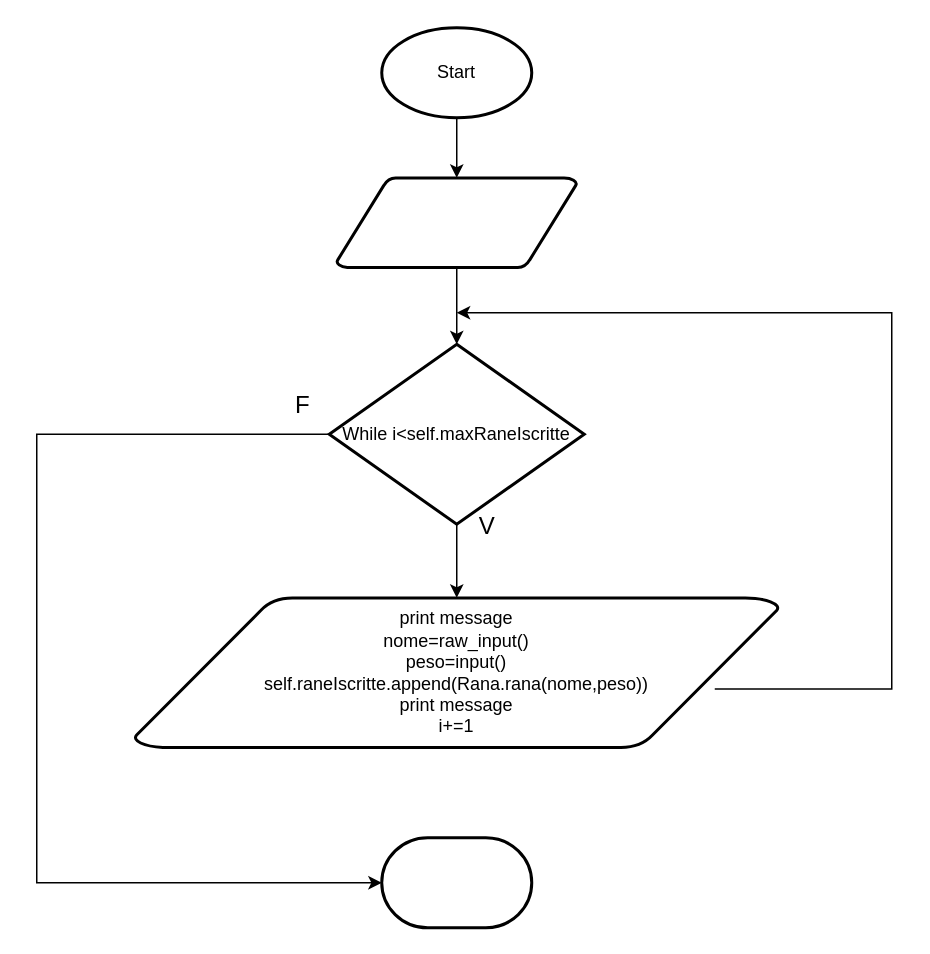
This 930x954 diagram has some shape labels left out. The shapes that lost their labels are listed below. From the top down, each one's centre as x and y in pixels, then its label:
At pixel 456 222: "i=0 print message".
At pixel 456 882: "End".
